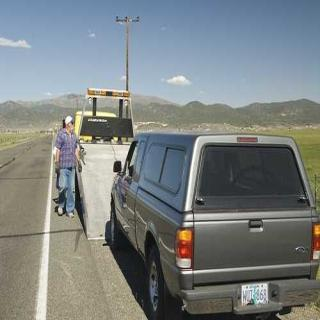Towing_truck: (60, 90, 136, 242)
